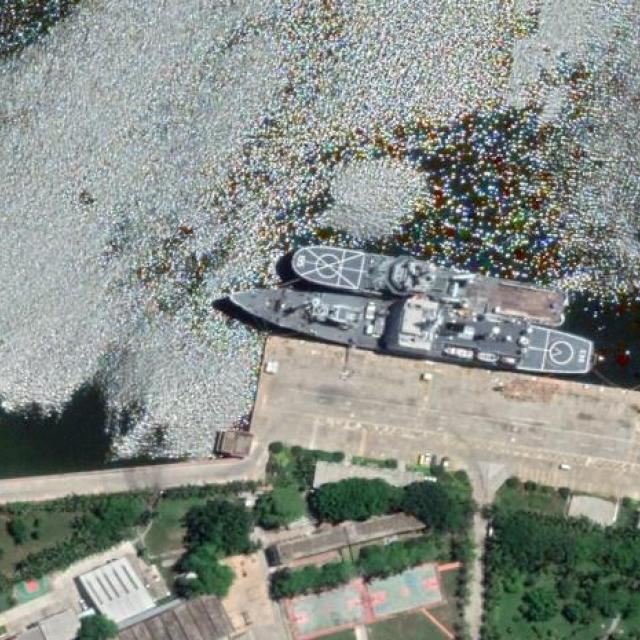Landing: (222, 279, 594, 383), (286, 236, 572, 331)
